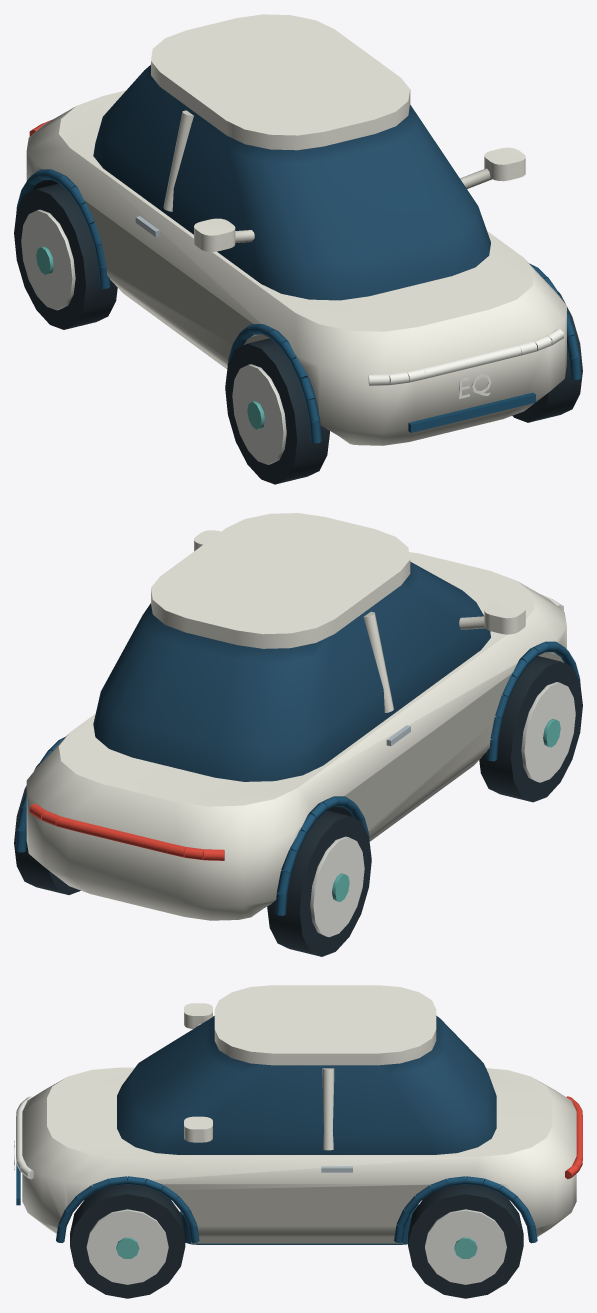
Rendered from car-white-low.glb.
3 renders of one model, top to bottom at view 1: azimuth 30°, elevation 25°; view 2: azimuth 150°, elevation 25°; view 3: azimuth 270°, elevation 25°, orthographic. The views are drawn at different scales.
Parts seen in each view (by area): view 1: sculpted electric body, sloping panoramic cabin, electric tire, aero wheel cover, battery underbody, wheel centre; view 2: sculpted electric body, sloping panoramic cabin, electric tire, aero wheel cover, battery underbody, conforming LED ribbon.012, wheel centre; view 3: sculpted electric body, sloping panoramic cabin, electric tire, aero wheel cover, battery underbody, wheel centre, conforming LED ribbon.012.
Boxes of the visible parts, left/top/right/bottom form: sculpted electric body: left=26, top=14, right=566, bottom=445; sloping panoramic cabin: left=93, top=65, right=490, bottom=300; electric tire: left=14, top=183, right=582, bottom=484; aero wheel cover: left=21, top=209, right=563, bottom=464; battery underbody: left=16, top=169, right=581, bottom=443; wheel centre: left=36, top=246, right=264, bottom=429; sculpted electric body: left=26, top=513, right=566, bottom=920; sloping panoramic cabin: left=93, top=562, right=490, bottom=781; electric tire: left=14, top=656, right=582, bottom=956; aero wheel cover: left=310, top=594, right=575, bottom=937; battery underbody: left=15, top=641, right=580, bottom=915; conforming LED ribbon.012: left=29, top=803, right=224, bottom=860; wheel centre: left=332, top=718, right=560, bottom=901; sculpted electric body: left=22, top=985, right=576, bottom=1243; sloping panoramic cabin: left=117, top=1015, right=496, bottom=1154; electric tire: left=70, top=1184, right=523, bottom=1298; aero wheel cover: left=14, top=1096, right=506, bottom=1284; battery underbody: left=16, top=1164, right=537, bottom=1244; wheel centre: left=116, top=1237, right=477, bottom=1258; conforming LED ribbon.012: left=565, top=1096, right=582, bottom=1179.
Bounding box in the file's own units: 1.03 × 0.8545 × 1.97.
